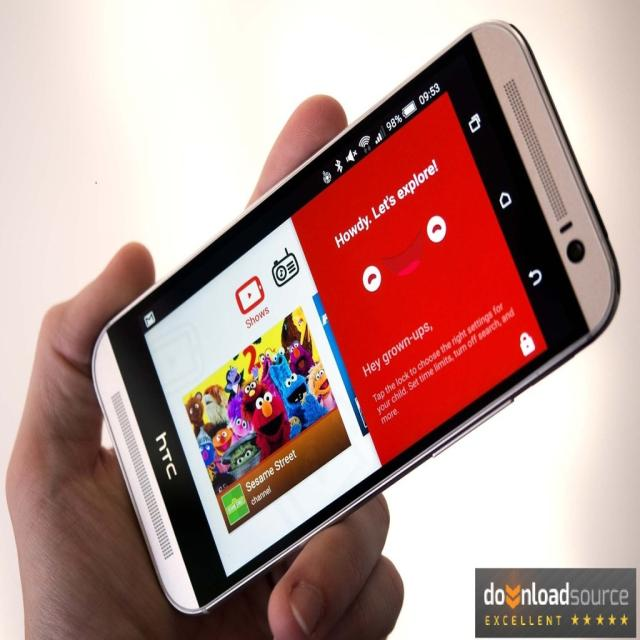Mobile-phone: (86, 16, 624, 620)
